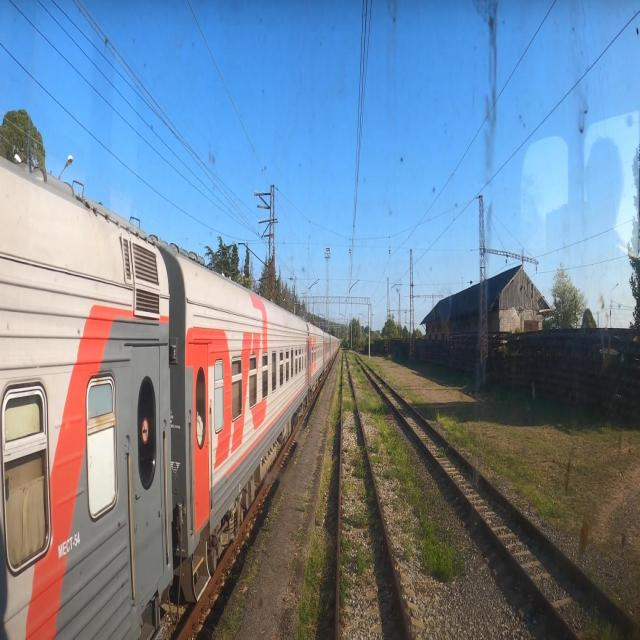rail-track: (354, 356, 640, 640), (335, 352, 412, 640)
trains: (0, 163, 340, 640)
